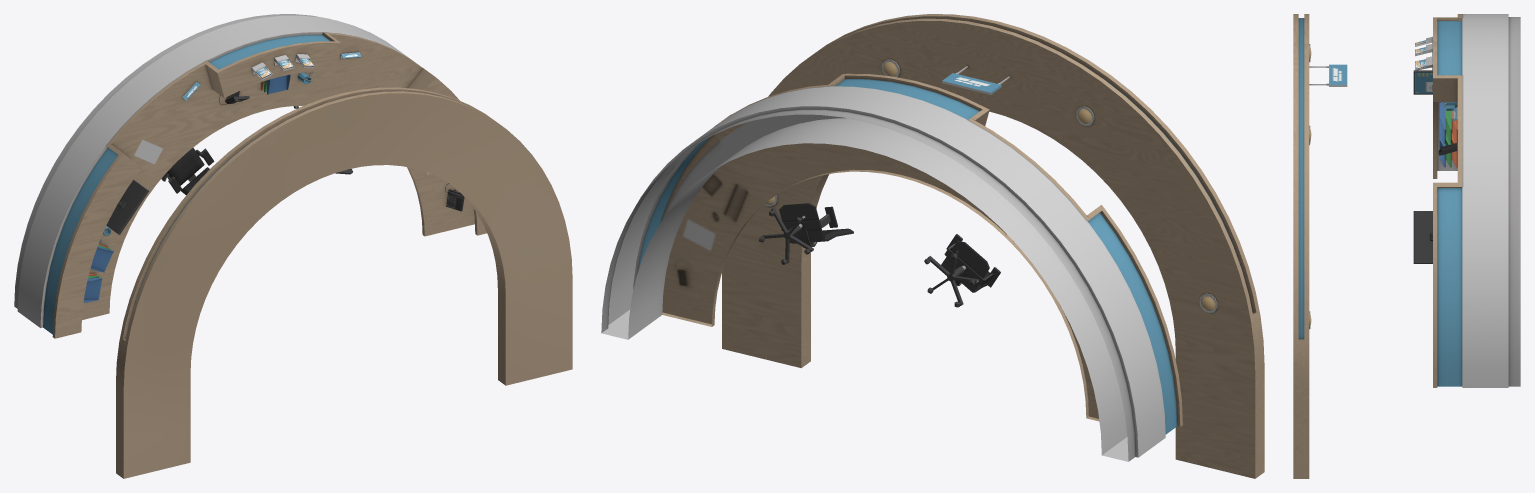
File: aws_robomaker_hospital_nursesstation_01_low.dae
3 renders of one model, left to right at view 1: azimuth 30°, elevation 25°; view 2: azimuth 150°, elevation 25°; view 3: azimuth 270°, elevation 25°, orthographic. The views are drawn at different scales.
Visible parts, largest first — view 1: aws_robomaker_hospital_nursesstation_01_low; view 2: aws_robomaker_hospital_nursesstation_01_low; view 3: aws_robomaker_hospital_nursesstation_01_low.
Part boxes in pixels (<box>): aws_robomaker_hospital_nursesstation_01_low: <box>14,14,572,478</box>; aws_robomaker_hospital_nursesstation_01_low: <box>601,14,1264,478</box>; aws_robomaker_hospital_nursesstation_01_low: <box>1293,14,1520,478</box>.
Size of the model in its own units: 700 by 484 by 302.
Materials: 1 (1 with a texture image).
